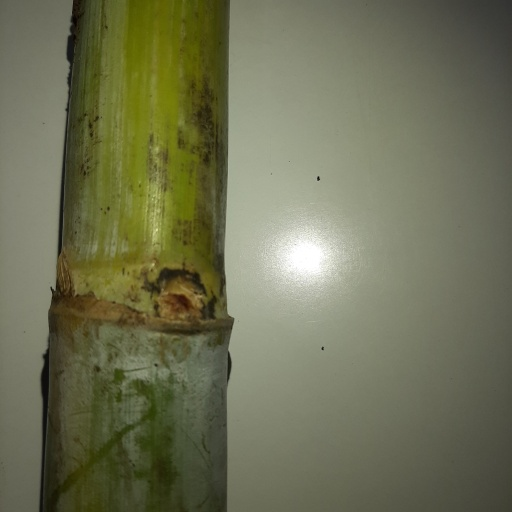Damage_Bud: (156, 270, 205, 319)
